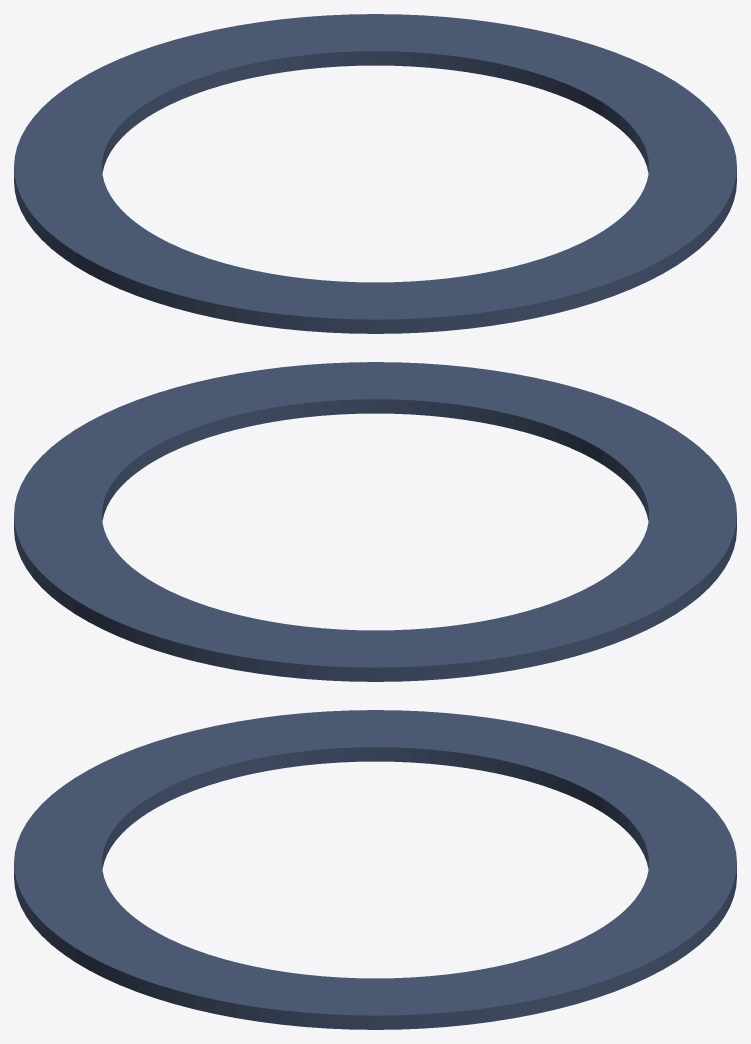
Rendered from Ring_03_Collider.fbx.
The picture shows the model from 3 angles, top to bottom: view 1: azimuth 30°, elevation 25°; view 2: azimuth 150°, elevation 25°; view 3: azimuth 270°, elevation 25°; orthographic projection.
Parts seen in each view (by area): view 1: Ring_03_Collider; view 2: Ring_03_Collider; view 3: Ring_03_Collider.
Boxes of the visible parts, <box> form: Ring_03_Collider: <box>14,14,736,333</box>; Ring_03_Collider: <box>14,362,736,681</box>; Ring_03_Collider: <box>14,710,736,1029</box>.
Bounding box in the file's own units: 727 × 15.92 × 727.
